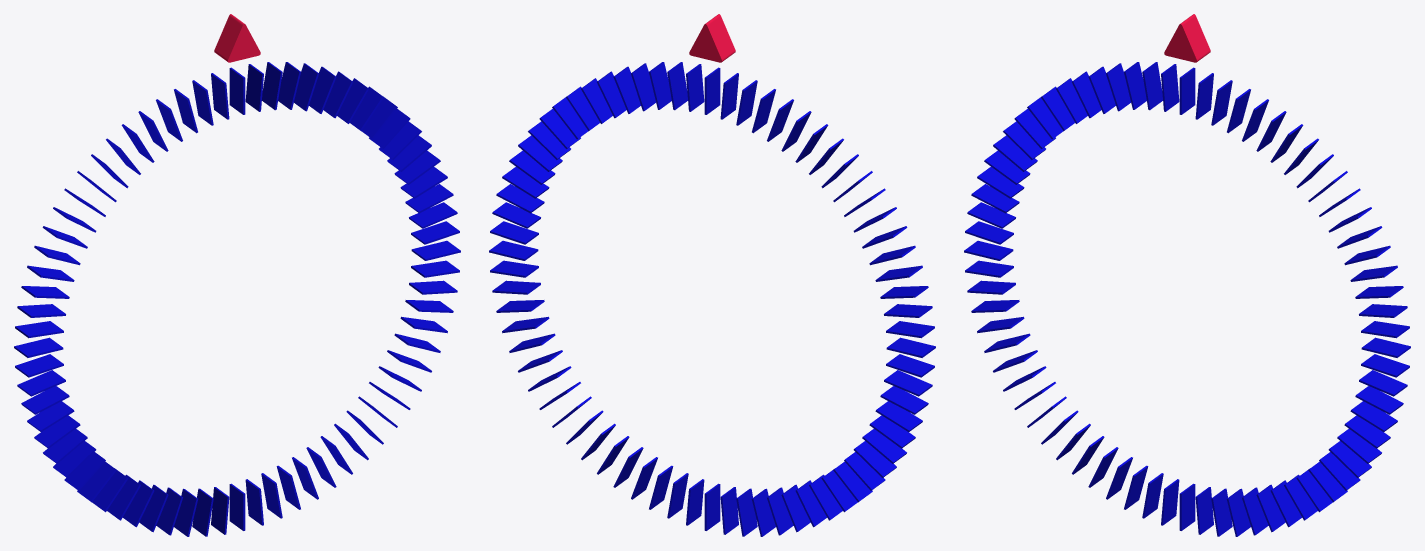
Rendered from motion3d.dae.
3 views of the same model, side by side, from view 1: azimuth 30°, elevation 25°; view 2: azimuth 150°, elevation 25°; view 3: azimuth 330°, elevation 25° (orthographic).
Parts seen in each view (by area): view 1: Extrude, Extrude.2; view 2: Extrude, Extrude.2; view 3: Extrude, Extrude.2.
Part boxes in pixels (left/top/right/bottom): Extrude: left=14, top=62, right=460, bottom=536; Extrude.2: left=214, top=14, right=260, bottom=62; Extrude: left=489, top=62, right=935, bottom=536; Extrude.2: left=689, top=14, right=735, bottom=62; Extrude: left=964, top=62, right=1410, bottom=536; Extrude.2: left=1164, top=14, right=1210, bottom=62.
Bounding box in the file's own units: 366 × 409 × 20.
